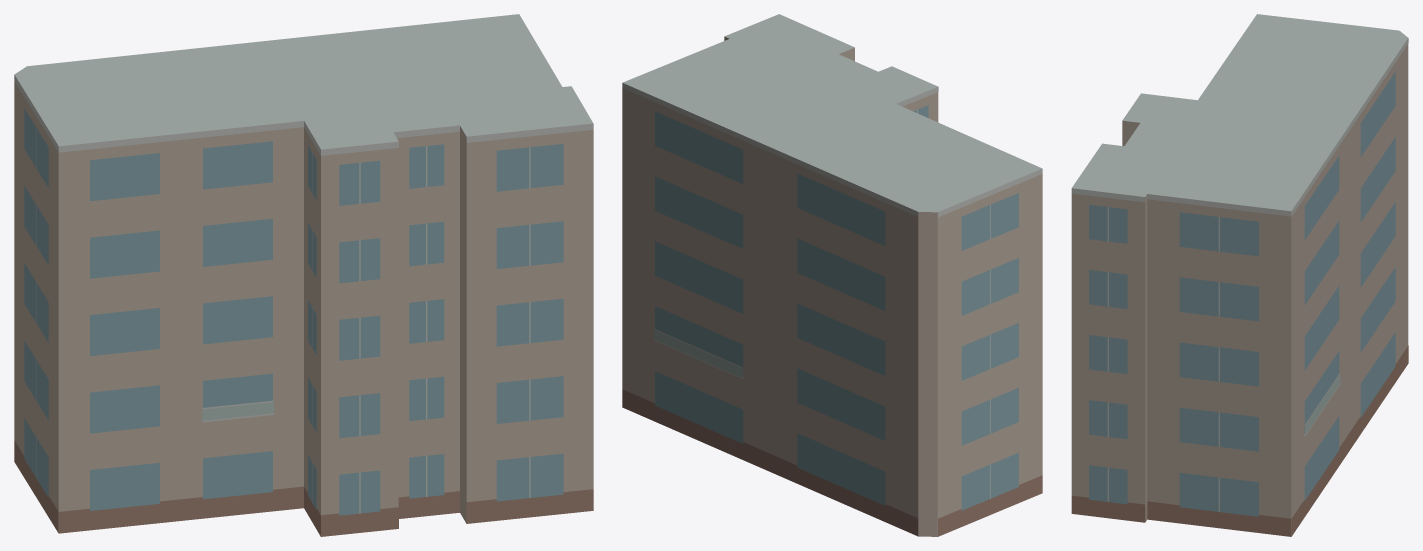
The model's file is survey-upis-32708265.glb.
3 views of the same model, side by side, from view 1: azimuth 30°, elevation 25°; view 2: azimuth 150°, elevation 25°; view 3: azimuth 270°, elevation 25° (orthographic). The views are drawn at different scales.
Visible parts, largest first — view 1: survey-upis-32708265.tmp; view 2: survey-upis-32708265.tmp; view 3: survey-upis-32708265.tmp.
Part boxes in pixels (bbox=[...]): survey-upis-32708265.tmp: bbox=[14, 14, 593, 536]; survey-upis-32708265.tmp: bbox=[622, 14, 1042, 536]; survey-upis-32708265.tmp: bbox=[1071, 14, 1408, 536].
Bounding box in the file's own units: 19.5 × 15 × 14.08.
